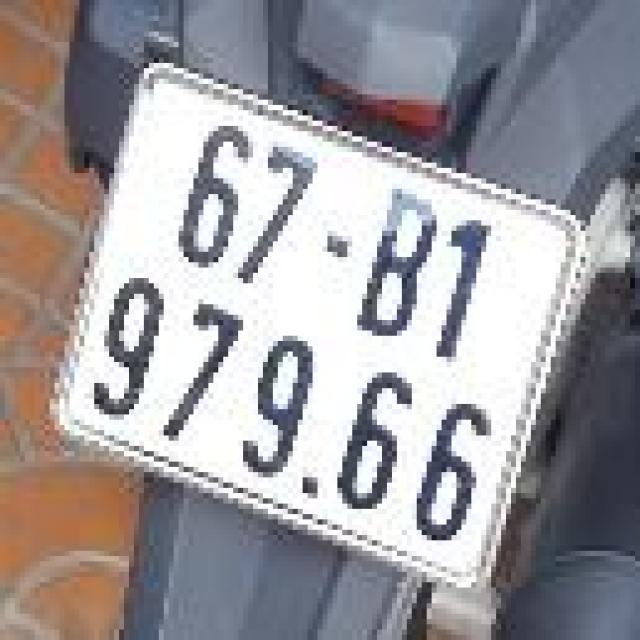1: (415, 205, 504, 375)
6: (400, 386, 504, 563), (323, 356, 429, 529), (163, 114, 263, 278)
7: (147, 286, 253, 459), (227, 135, 327, 303)
9: (220, 318, 329, 496), (78, 260, 177, 435)
B: (342, 175, 450, 354)
